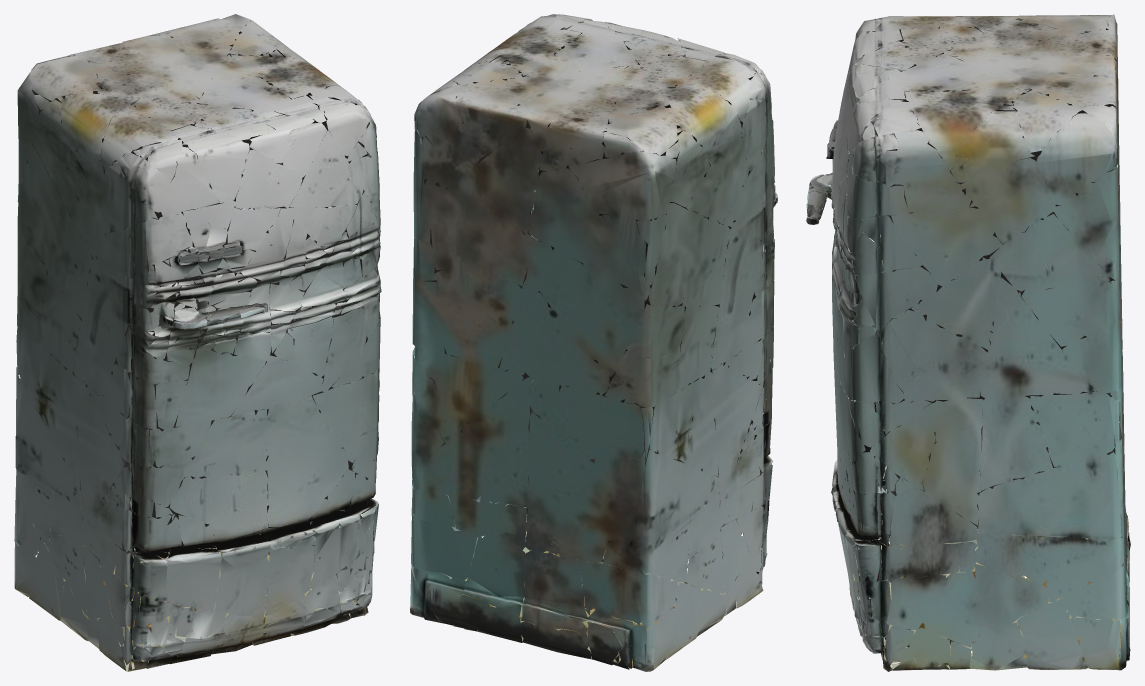
File: SovietFridge_Doors.glb
3 renders of one model, left to right at view 1: azimuth 30°, elevation 25°; view 2: azimuth 150°, elevation 25°; view 3: azimuth 270°, elevation 25°, orthographic. The views are drawn at different scales.
Parts seen in each view (by area): view 1: SovietFridge, Door, Interior; view 2: SovietFridge, Door, Interior; view 3: SovietFridge, Door, Interior.
Part boxes in pixels (x1,y1,x2,y2): SovietFridge: (14, 14, 381, 671); Door: (143, 113, 378, 546); Interior: (26, 31, 357, 524); SovietFridge: (410, 14, 777, 671); Door: (538, 25, 777, 448); Interior: (421, 53, 740, 532); SovietFridge: (807, 14, 1130, 671); Door: (806, 31, 869, 528); Interior: (887, 25, 1115, 528).
Bounding box in the file's own units: 0.871 × 1.8 × 0.9655.
2 materials, 1 textured.
